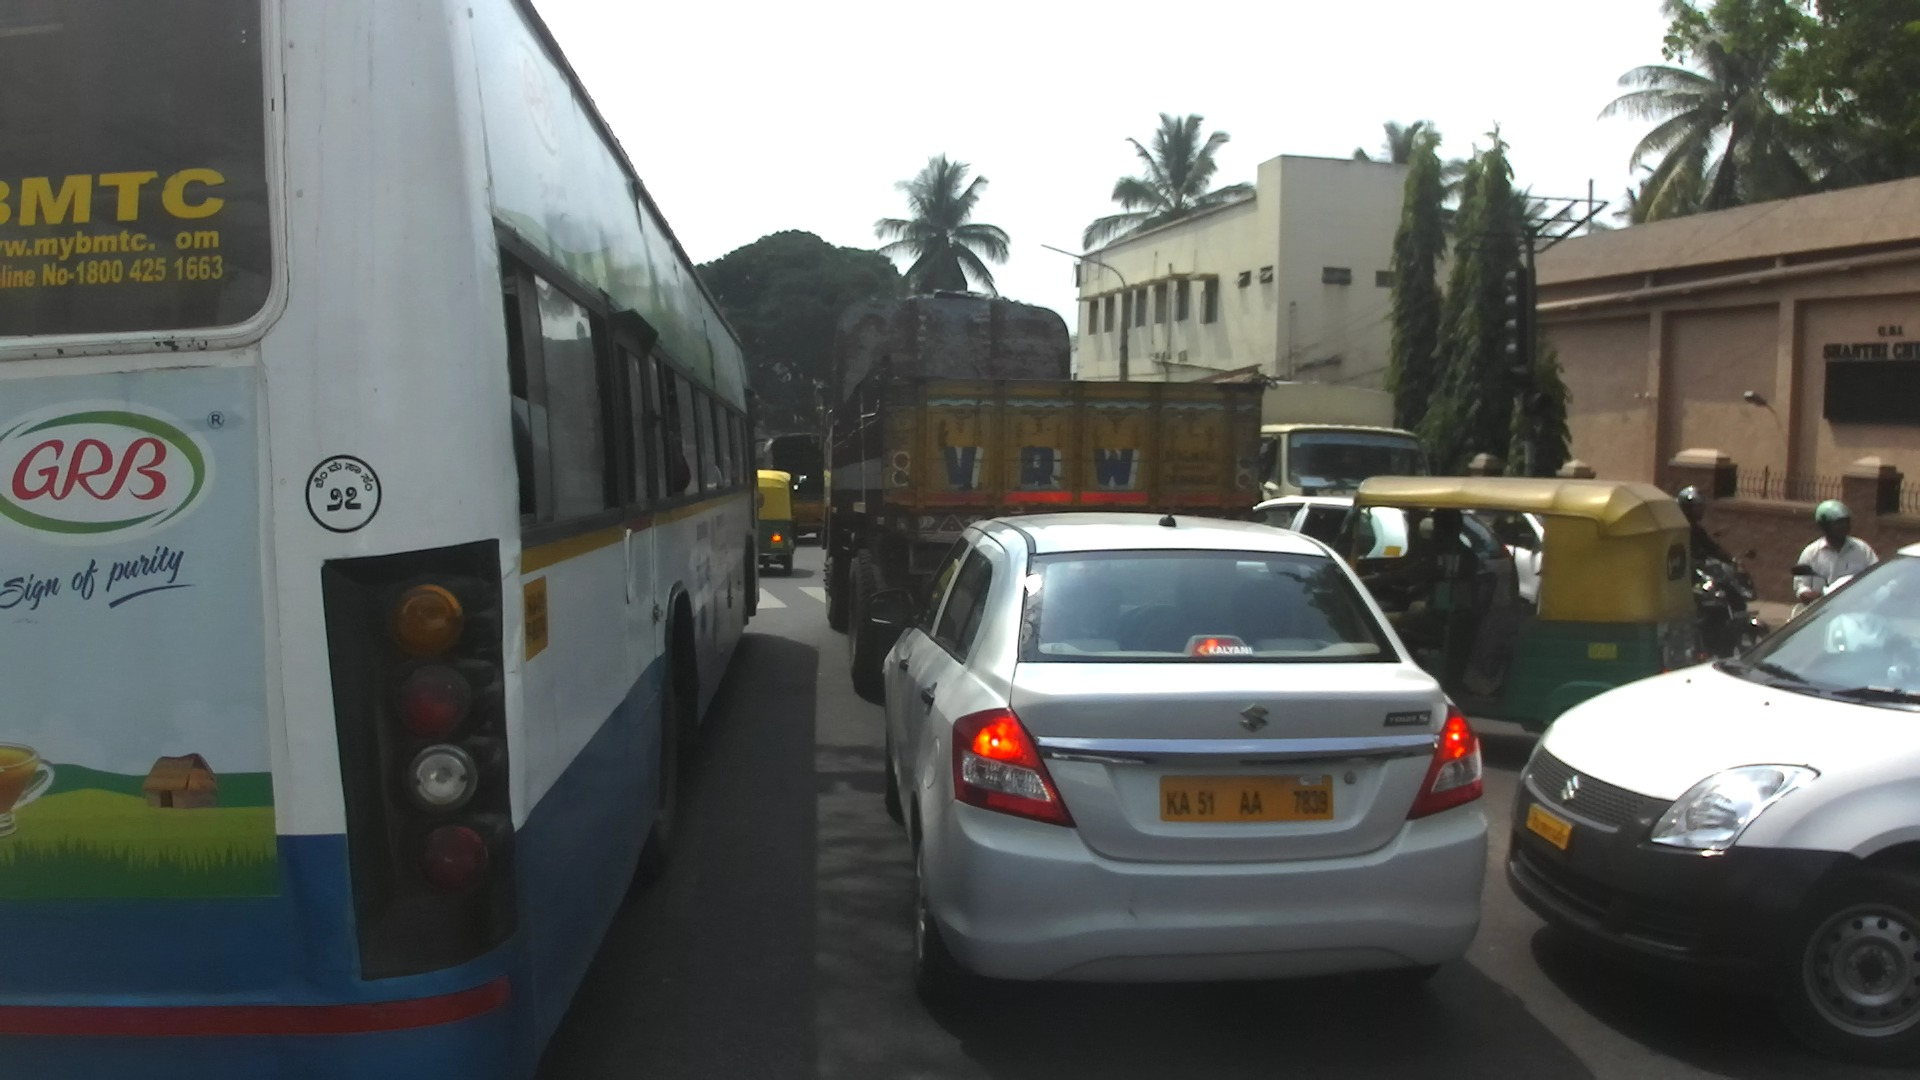autorickshaw: (1334, 472, 1703, 737), (752, 468, 798, 574)
bus: (1, 1, 765, 1080), (1256, 423, 1434, 511)
car: (867, 487, 1493, 1007), (1502, 536, 1920, 1065), (1249, 494, 1389, 566)
motorcycle: (1690, 546, 1769, 657), (1789, 563, 1855, 626)
rider: (1794, 501, 1879, 609), (1675, 486, 1733, 590)
truck: (819, 291, 1277, 679), (765, 435, 833, 541)
